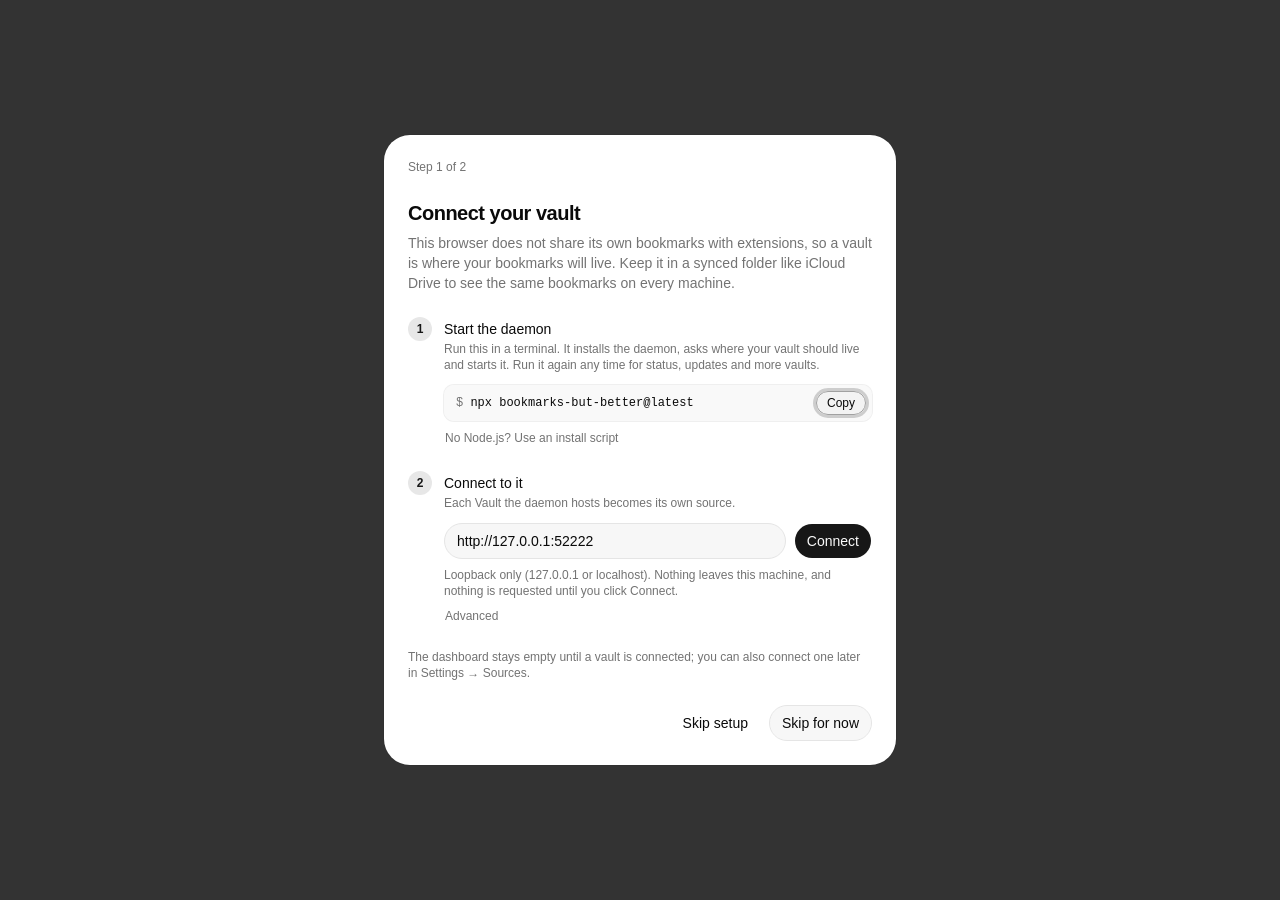
Scenario: OnboardingWizard teaching card › also refuses the new-tab promise on Safari, where the wizard has other steps
Click the button "Skip for now".
click(820, 723)  # box [769, 705, 872, 741]
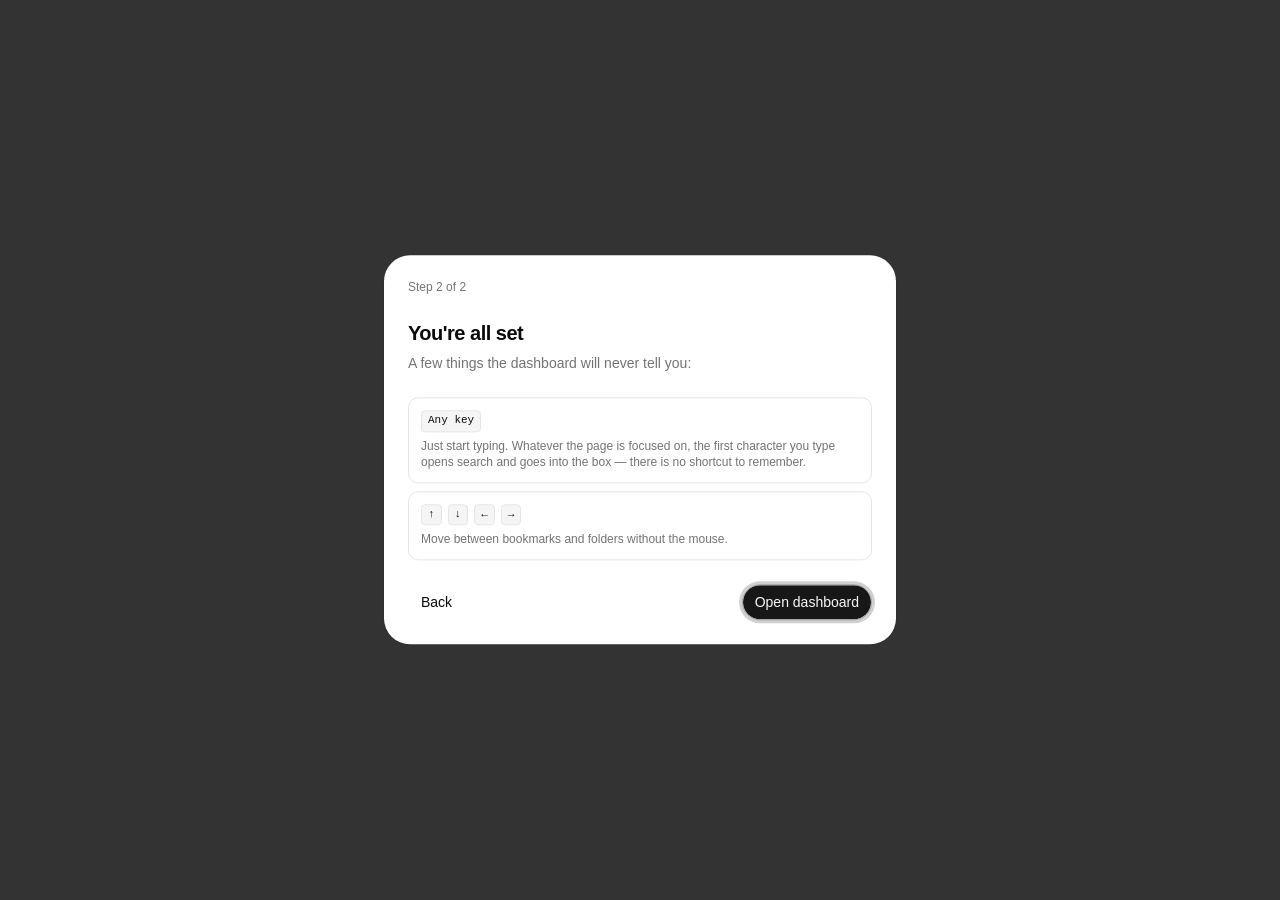
Expected: the heading "You're all set" is shown, [408, 322, 523, 344]
